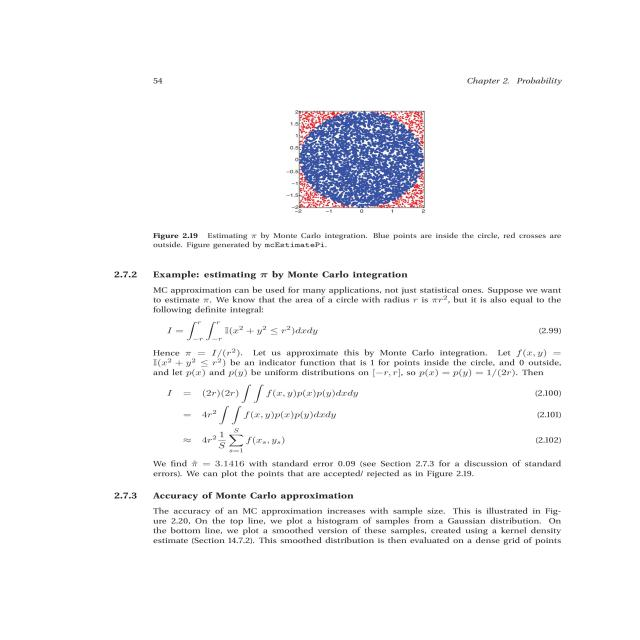diagram: (83, 94, 640, 258)
